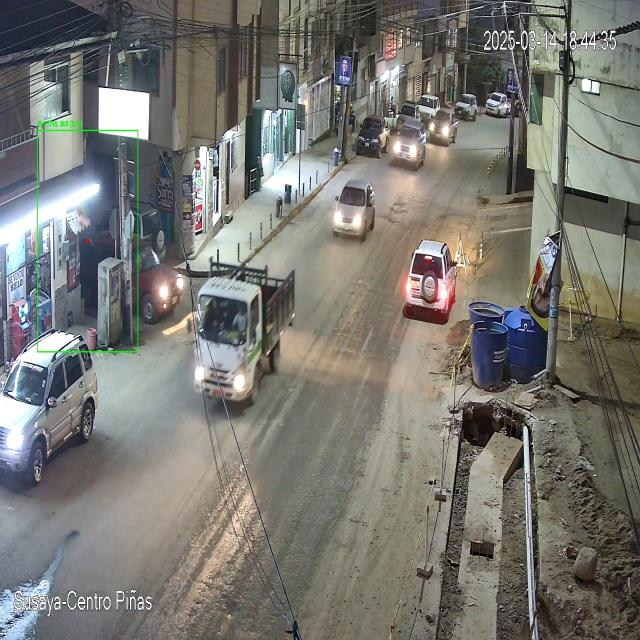SUV: (402, 240, 460, 327)
TRUCK: (194, 271, 294, 408)
